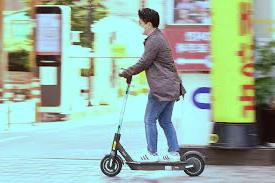nonhelmet: (99, 7, 206, 178)
